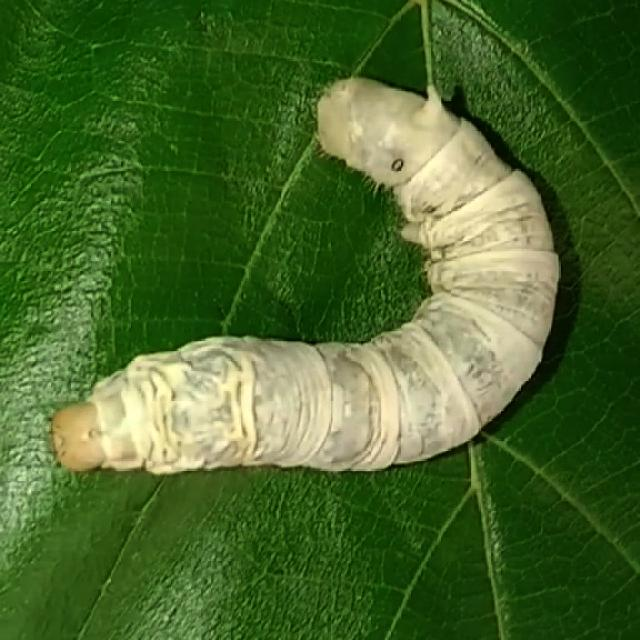Grasserie: (22, 43, 572, 520)
